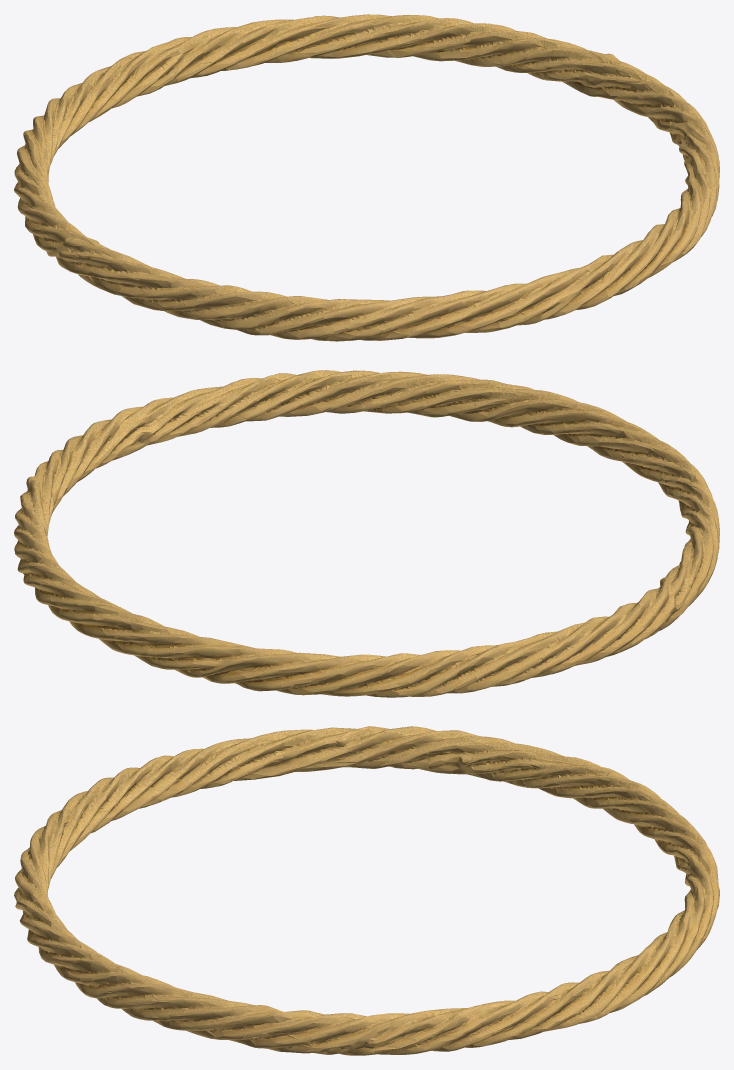
Rendered from ring_gold_rope.glb.
3 views of the same model, one above another, from view 1: azimuth 30°, elevation 25°; view 2: azimuth 150°, elevation 25°; view 3: azimuth 270°, elevation 25° (orthographic).
Size of the model in its own units: 1.9 by 0.1231 by 1.88.
Materials: 1 (1 with a texture image).
